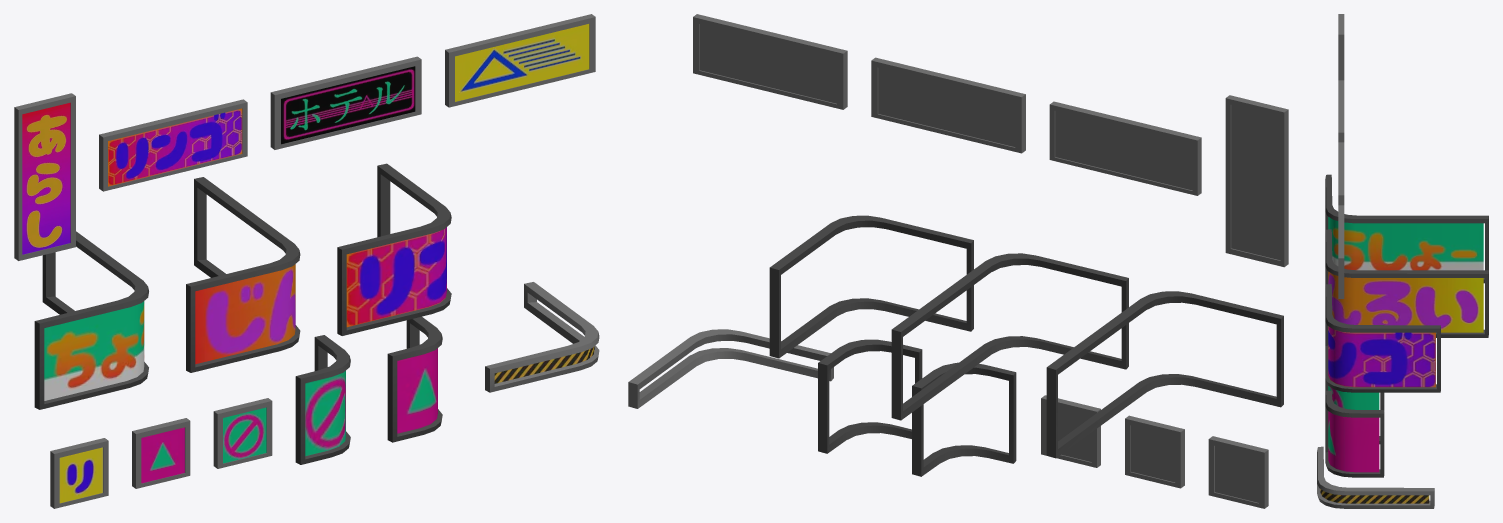
Rendered from neon-signs.glb.
The picture shows the model from 3 angles, left to right: view 1: azimuth 30°, elevation 25°; view 2: azimuth 150°, elevation 25°; view 3: azimuth 270°, elevation 25°; orthographic projection. The views are drawn at different scales.
Visible parts, largest first — view 1: Sign_Small_3, Sign_Corner_Small2; view 2: Sign_Small_3, Sign_Corner_Small2; view 3: Sign_Small_3, Sign_Corner_Small2.
Part boxes in pixels (bbox=[...]): Sign_Small_3: bbox=[14, 14, 599, 508]; Sign_Corner_Small2: bbox=[34, 163, 451, 464]; Sign_Small_3: bbox=[628, 14, 1288, 508]; Sign_Corner_Small2: bbox=[769, 215, 1283, 476]; Sign_Small_3: bbox=[1317, 14, 1483, 508]; Sign_Corner_Small2: bbox=[1325, 174, 1488, 477].
Size of the model in its own units: 5.11 by 3.5 by 1.77.
3 materials, 1 textured.
